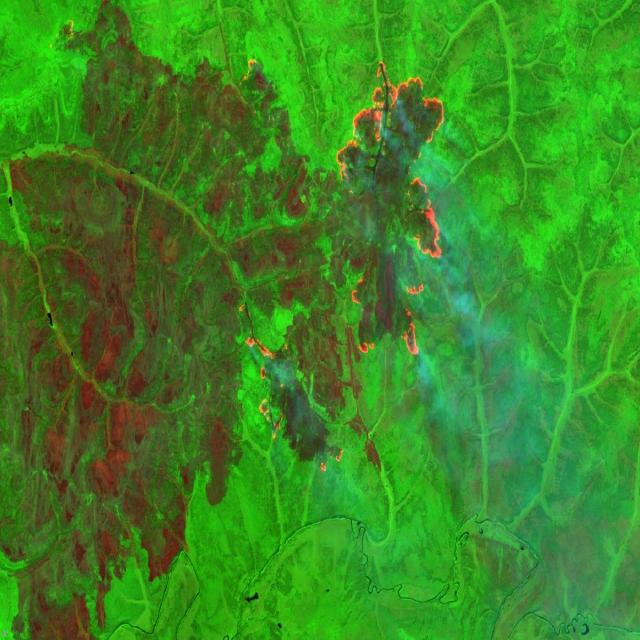fire: (334, 61, 447, 362), (245, 323, 289, 442), (316, 440, 349, 481), (234, 44, 262, 90)
